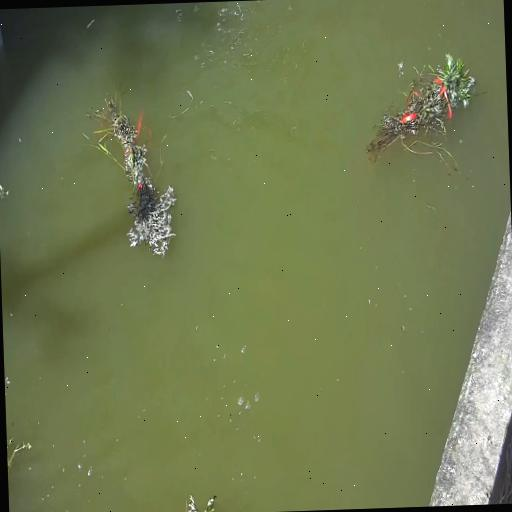twig: (85, 87, 178, 257), (362, 50, 483, 170)
